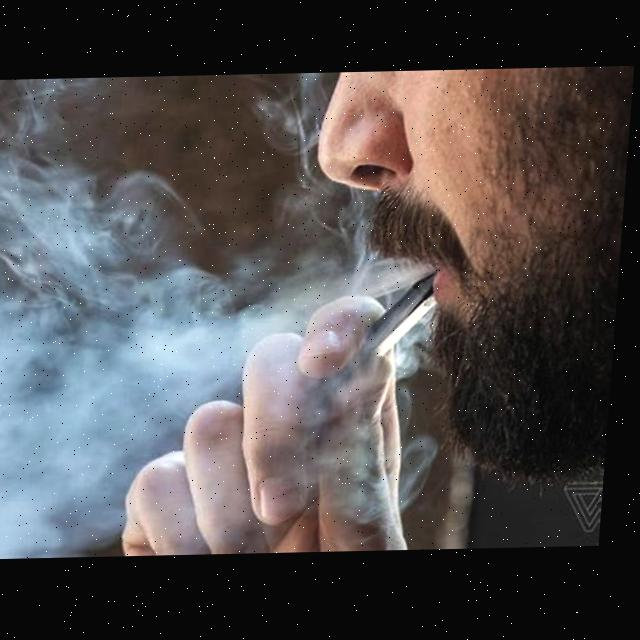vape: (307, 273, 441, 437)
